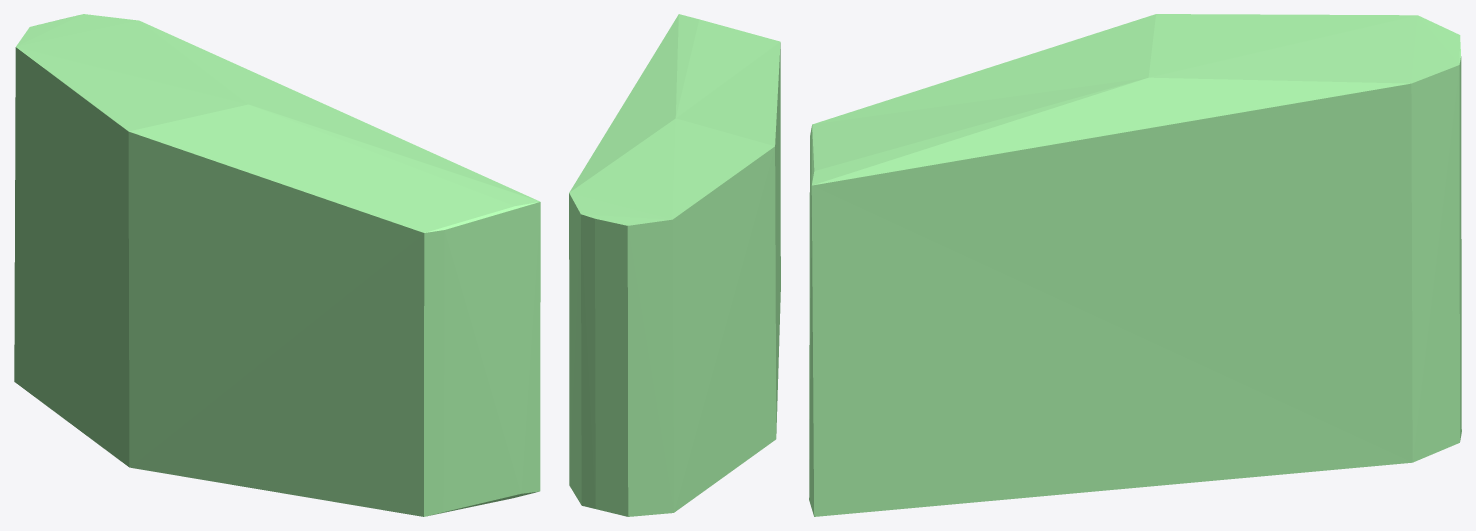
Rendered from panda_rightFinger_coll_8.dae.
3 views of the same model, side by side, from view 1: azimuth 30°, elevation 25°; view 2: azimuth 150°, elevation 25°; view 3: azimuth 270°, elevation 25° (orthographic). The views are drawn at different scales.
Parts seen in each view (by area): view 1: node; view 2: node; view 3: node.
Boxes of the visible parts, <box> form: node: <box>14,14,540,516</box>; node: <box>569,14,780,516</box>; node: <box>809,14,1461,516</box>.
Size of the model in its own units: 0.017 by 0.021 by 0.0322.
